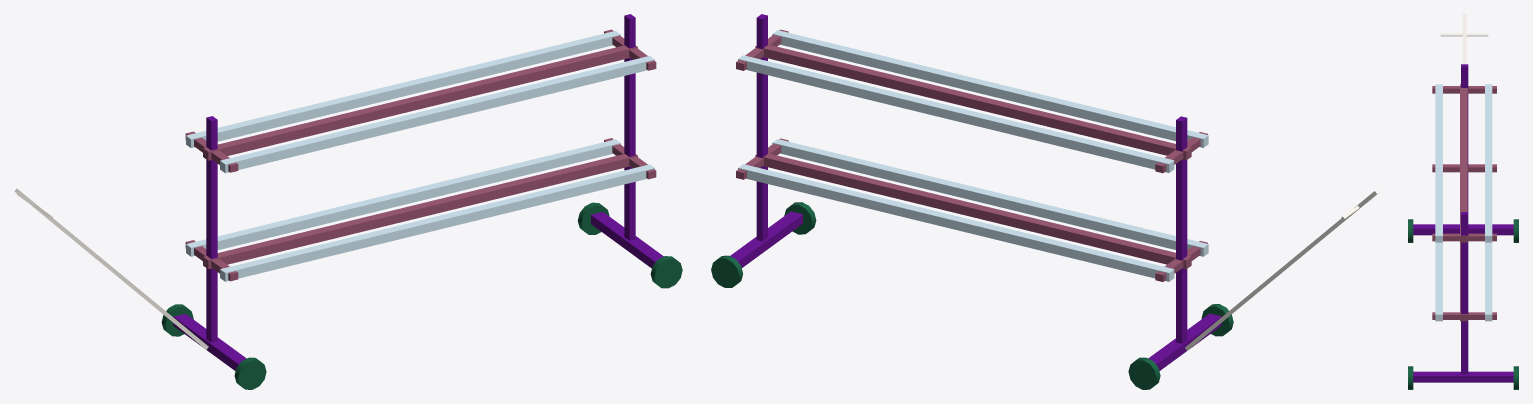
The model's file is Javelin_transport.FBX.
3 renders of one model, left to right at view 1: azimuth 30°, elevation 25°; view 2: azimuth 150°, elevation 25°; view 3: azimuth 270°, elevation 25°, orthographic. The views are drawn at different scales.
Visible parts, largest first — view 1: Javelin_transport; view 2: Javelin_transport; view 3: Javelin_transport.
Boxes of the visible parts, <box> form: Javelin_transport: <box>14,14,682,389</box>; Javelin_transport: <box>711,14,1379,389</box>; Javelin_transport: <box>1408,14,1518,389</box>.
Bounding box in the file's own units: 39.88 × 14.75 × 8.43.
